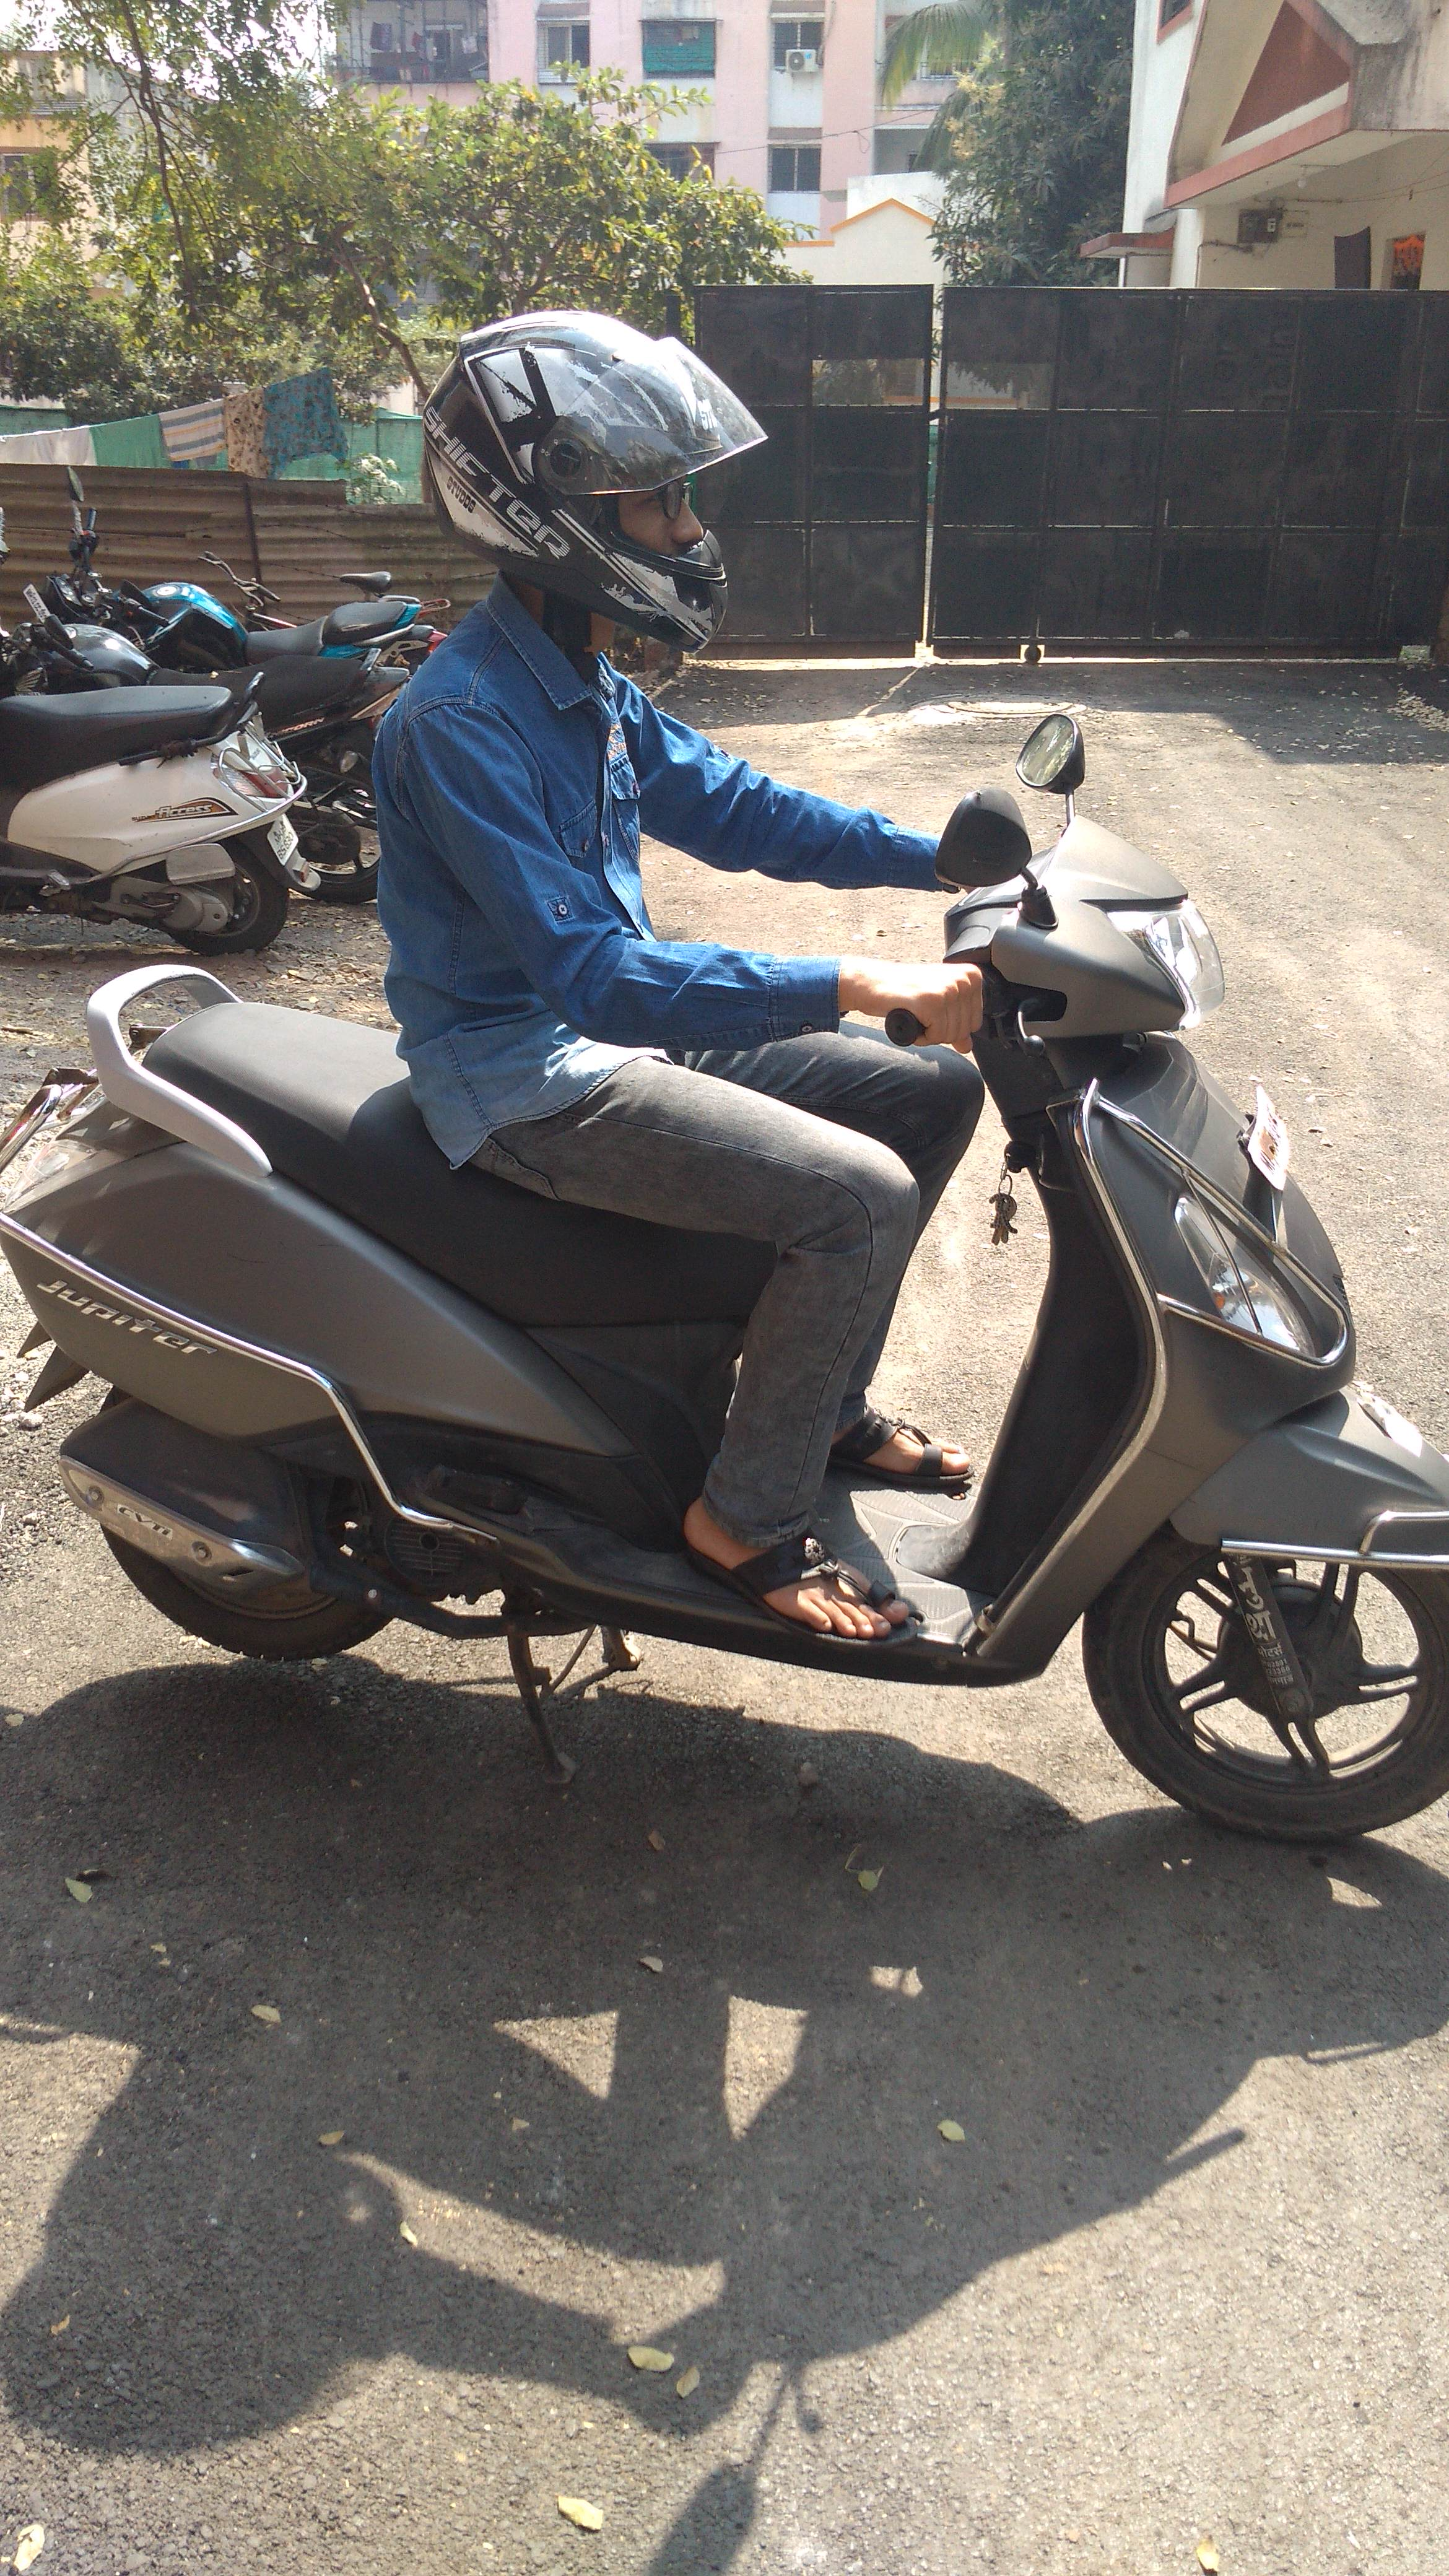helmet: (357, 288, 1039, 1734)
